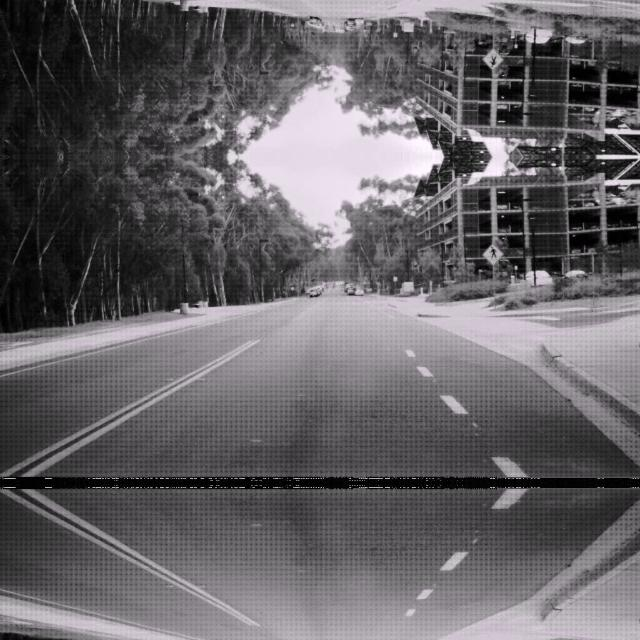pedestrianCrossing: (481, 242, 503, 264), (481, 48, 503, 70)
